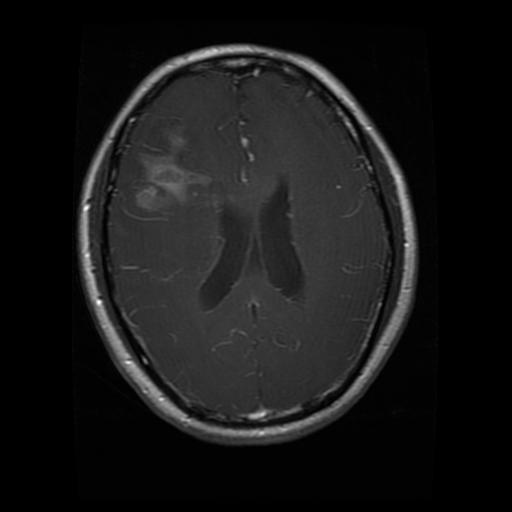Gliomia_tumour: (119, 115, 215, 229)
